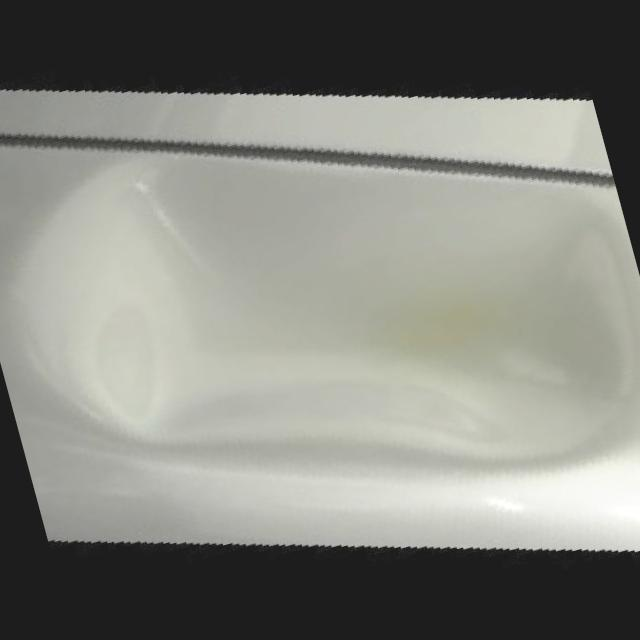dent: (0, 39, 640, 593)
